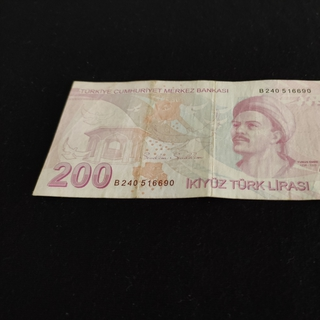200TLBack: (31, 77, 320, 202)
